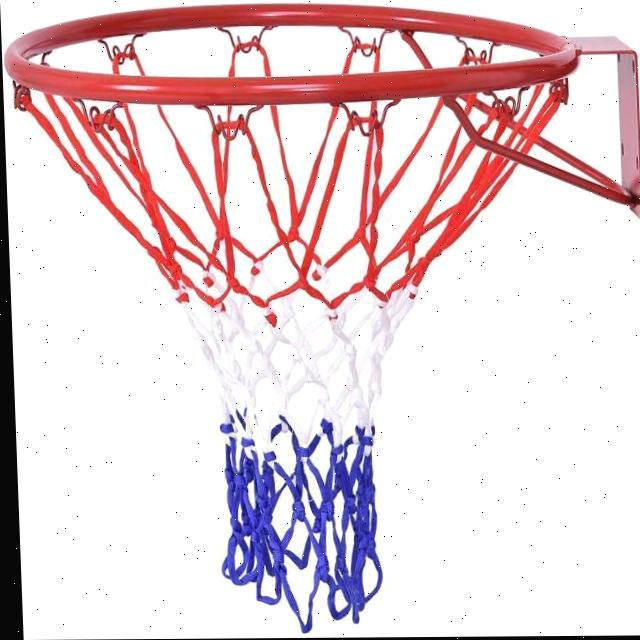hoop: (0, 0, 640, 629)
